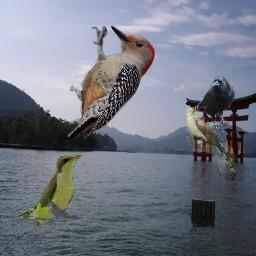Crow: (190, 74, 235, 135)
Cuckoo: (20, 153, 83, 228), (186, 107, 237, 173)
Woodpecker: (68, 26, 155, 139)
